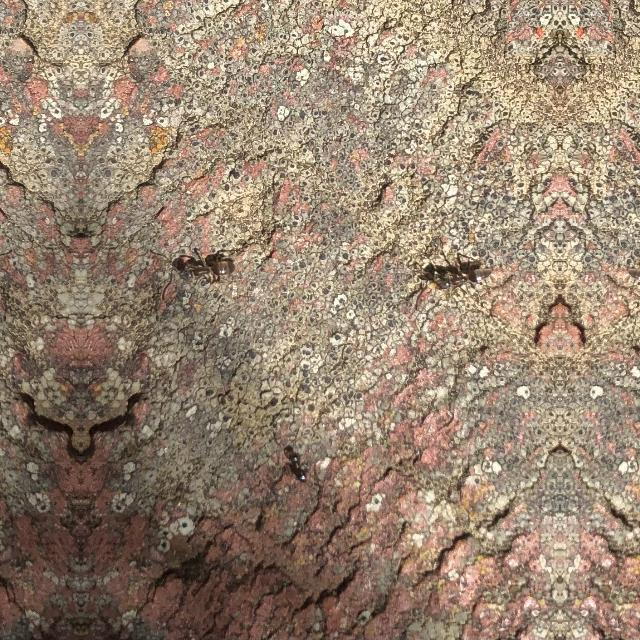Tapinoma: (433, 253, 493, 301), (175, 246, 247, 286), (283, 436, 315, 488), (626, 253, 640, 301)
